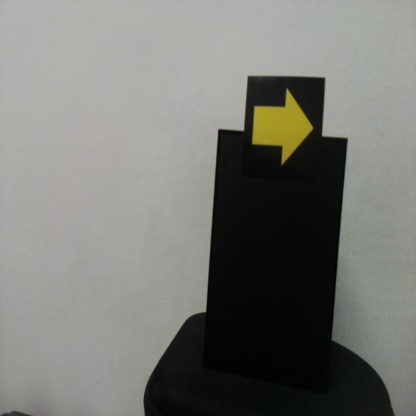id_3: (247, 77, 324, 182)
